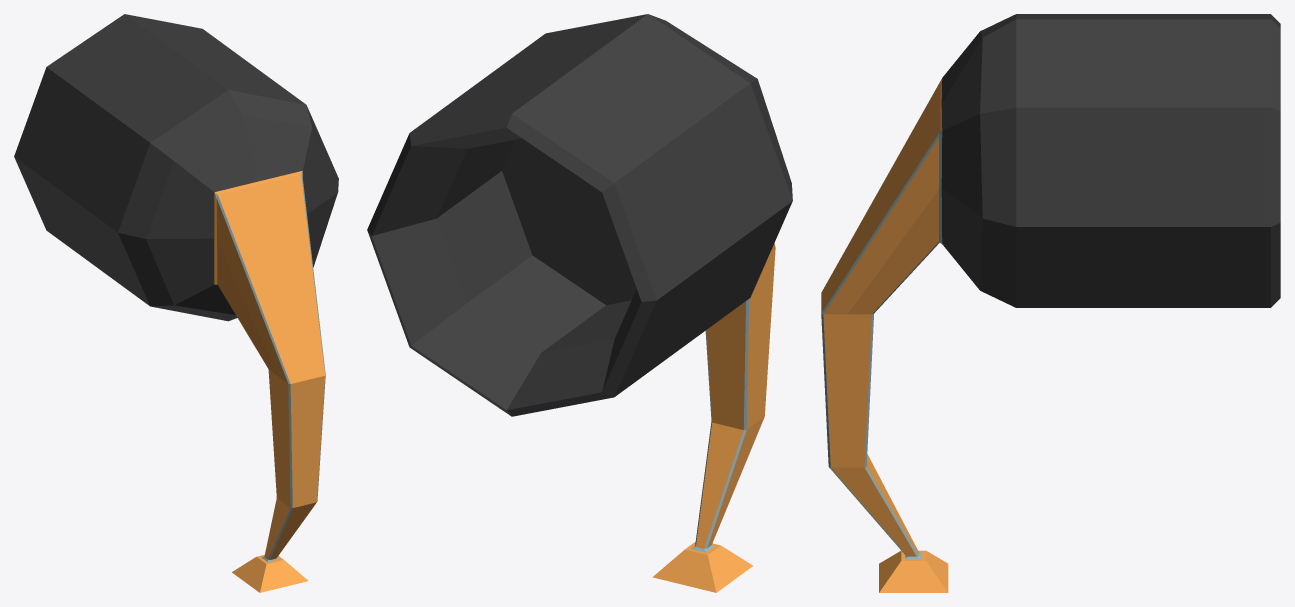
Rendered from spin_reactor_final.glb.
3 views of the same model, side by side, from view 1: azimuth 30°, elevation 25°; view 2: azimuth 150°, elevation 25°; view 3: azimuth 270°, elevation 25° (orthographic). The views are drawn at different scales.
Visible parts, largest first — view 1: Cube; view 2: Cube; view 3: Cube.
Part boxes in pixels (x1,y1,x2,y2): Cube: [14, 14, 338, 592]; Cube: [367, 14, 792, 592]; Cube: [821, 14, 1280, 592].
Size of the model in its own units: 25.16 by 49.61 by 36.95.
